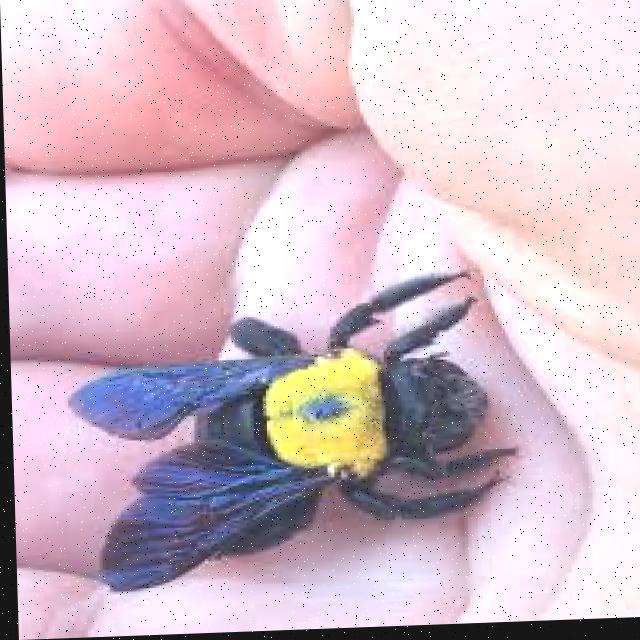Xylocopa: (56, 284, 520, 579)
